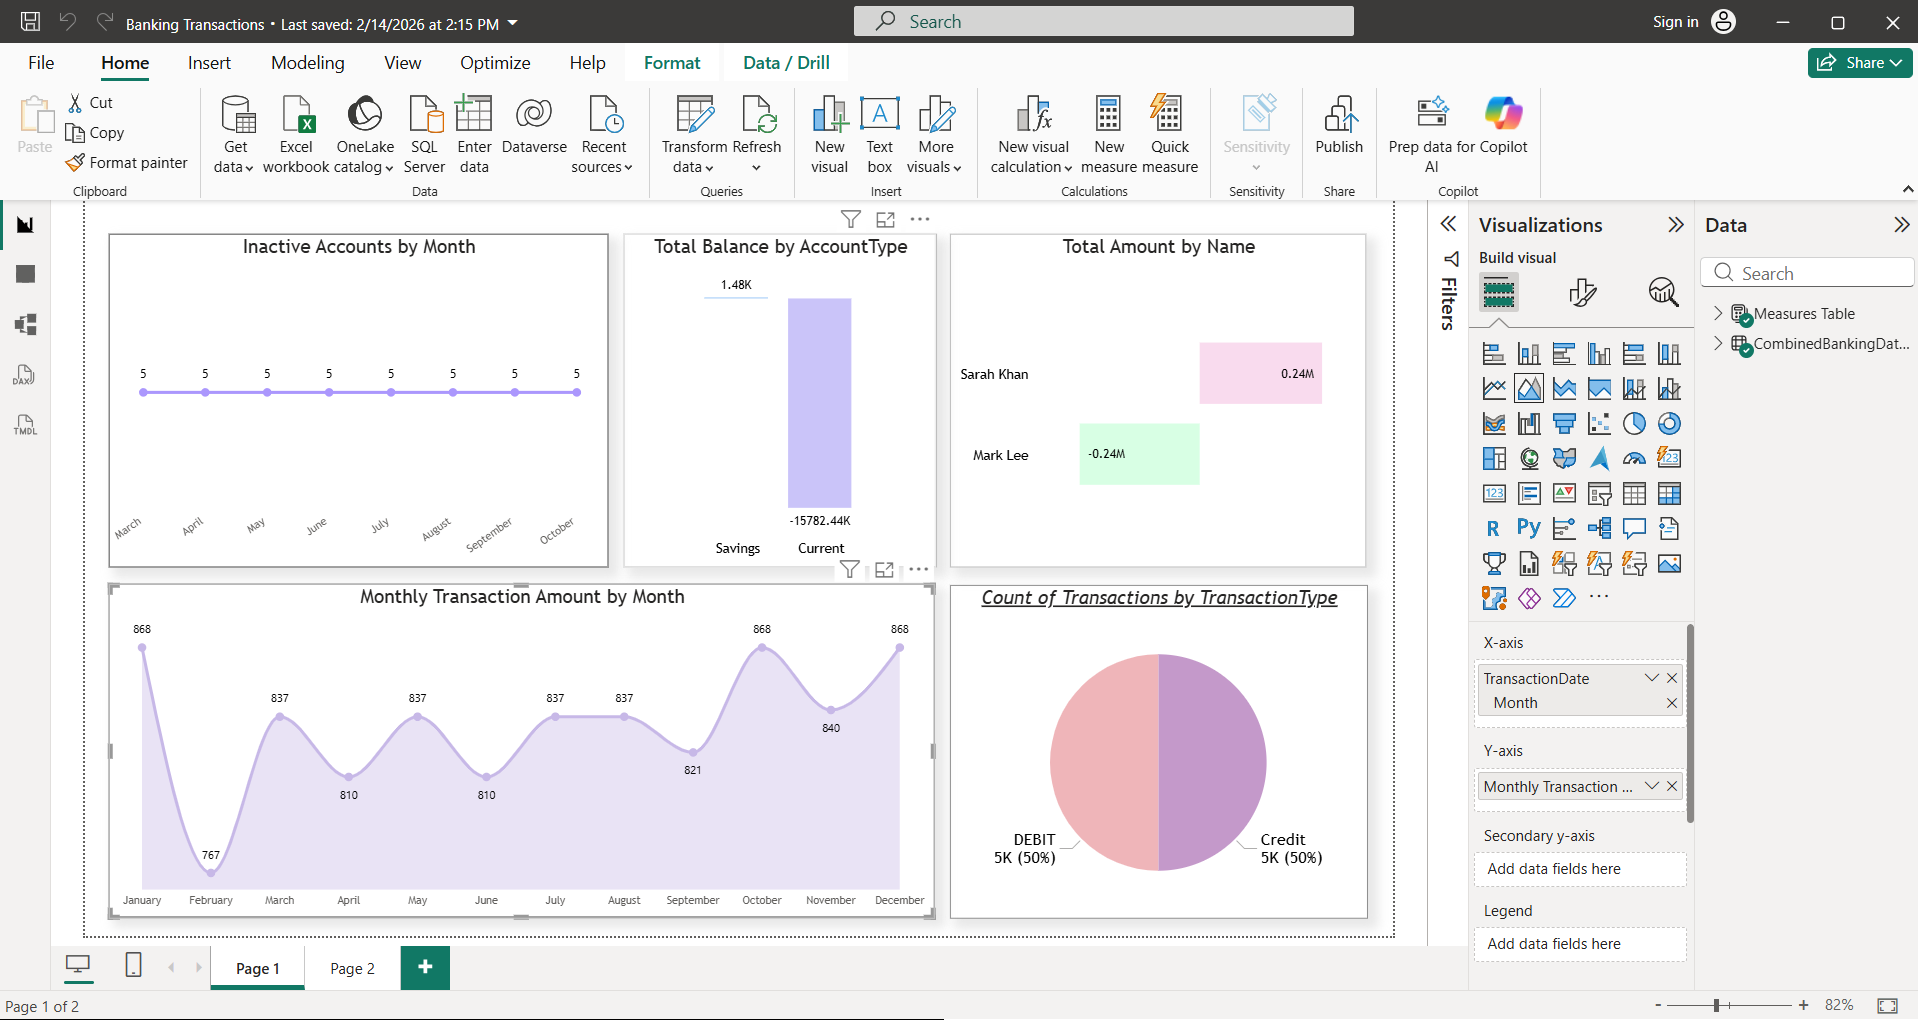

The dashboard page shown, as its layout file describes it:
{"tool":"powerbi","page":{"name":"Page 1","canvas":[1280,720],"ordinal":0},"visuals":[{"type":"pieChart","fields":{"Y":["Measures Table.Count of Transactions"],"Category":["CombinedBankingDataset.TransactionType"]},"box":[846.2,376.6,408.4,326.5],"z":0},{"type":"areaChart","fields":{"Y":["Measures Table.Monthly Transaction Amount"],"Category":["CombinedBankingDataset.TransactionDate.Variation.Date Hierarchy.Month"]},"box":[23.3,376,808.2,326.6],"z":1000},{"type":"barChart","title":"Total Amount by Name","fields":{"Y":["Sum(CombinedBankingDataset.Amount)"],"Category":["CombinedBankingDataset.Name"]},"box":[846.7,32.9,407.5,326.6],"z":2000},{"type":"clusteredColumnChart","title":"Total Balance by AccountType","fields":{"Category":["CombinedBankingDataset.AccountType"],"Y":["Sum(CombinedBankingDataset.Balance)"]},"box":[526.9,32.9,306,326.6],"z":3000},{"type":"lineChart","fields":{"Y":["Measures Table.Inactive Accounts"],"Category":["CombinedBankingDataset.TransactionDate.Variation.Date Hierarchy.Month"]},"box":[23.3,32.9,488.5,326.6],"z":4000}]}

Visuals, with their boxes on the page's 1280x720 design canvas (x1, y1, x2, y2). These are canvas units, not pixel positions in the 1918x1020 screenshot, which may show the page scaled, cropped or inside an application window:
pieChart - Measures Table.Count of Transactions x CombinedBankingDataset.TransactionType: rect(846, 377, 1255, 703)
areaChart - Measures Table.Monthly Transaction Amount x CombinedBankingDataset.TransactionDate.Variation.Date Hierarchy.Month: rect(23, 376, 832, 703)
"Total Amount by Name" barChart: rect(847, 33, 1254, 360)
"Total Balance by AccountType" clusteredColumnChart: rect(527, 33, 833, 360)
lineChart - Measures Table.Inactive Accounts x CombinedBankingDataset.TransactionDate.Variation.Date Hierarchy.Month: rect(23, 33, 512, 360)
